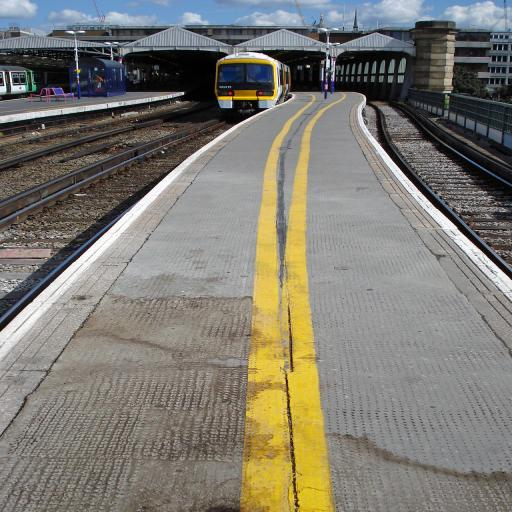platform_edge: (0, 145, 216, 362), (355, 134, 512, 356)
